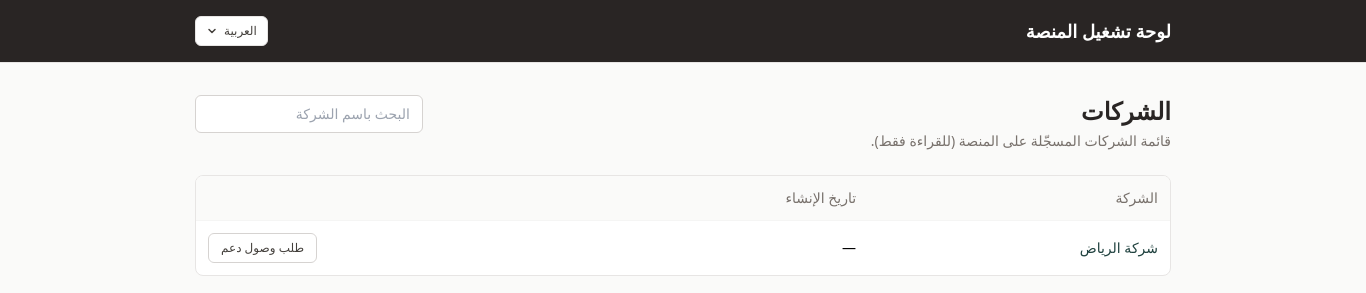
<PlatformOrganizations/> — organization search › clearing the search restores the unfiltered request and list
expect the link "شركة الرياض" is shown: met, box [1080,238,1158,257]
Type "الرياض" into the search field with placeholder "البحث باسم الشركة" at (309, 114), box [195,95,423,133]
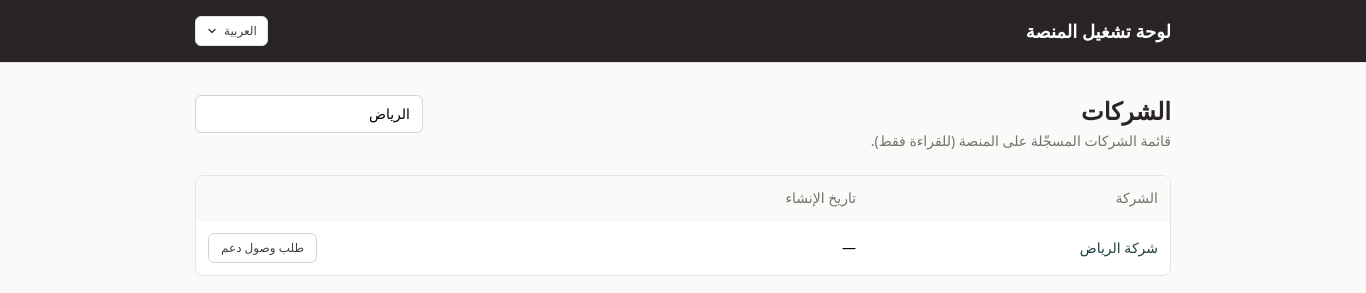
expect the link "شركة الرياض" is shown: met, box [1080,238,1158,257]
Clear the search field with placeholder "البحث باسم الشركة" at (309, 114), box [195,95,423,133]
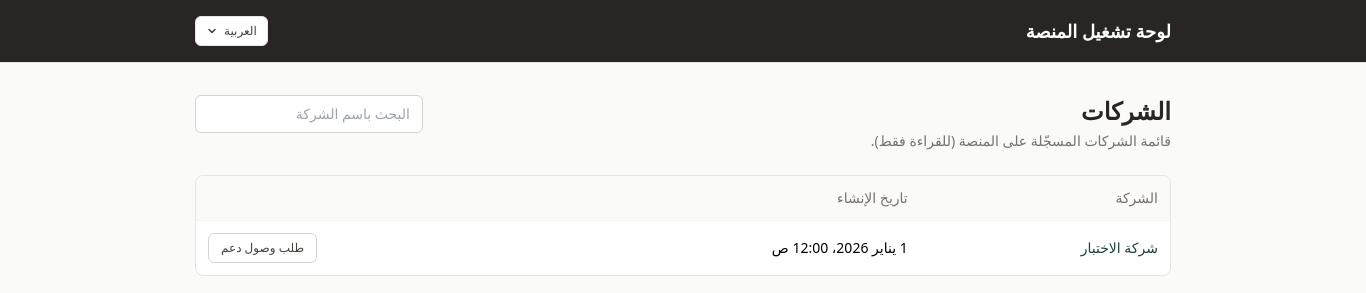
expect the link "شركة الاختبار" is shown: met, box [1081,238,1158,257]
